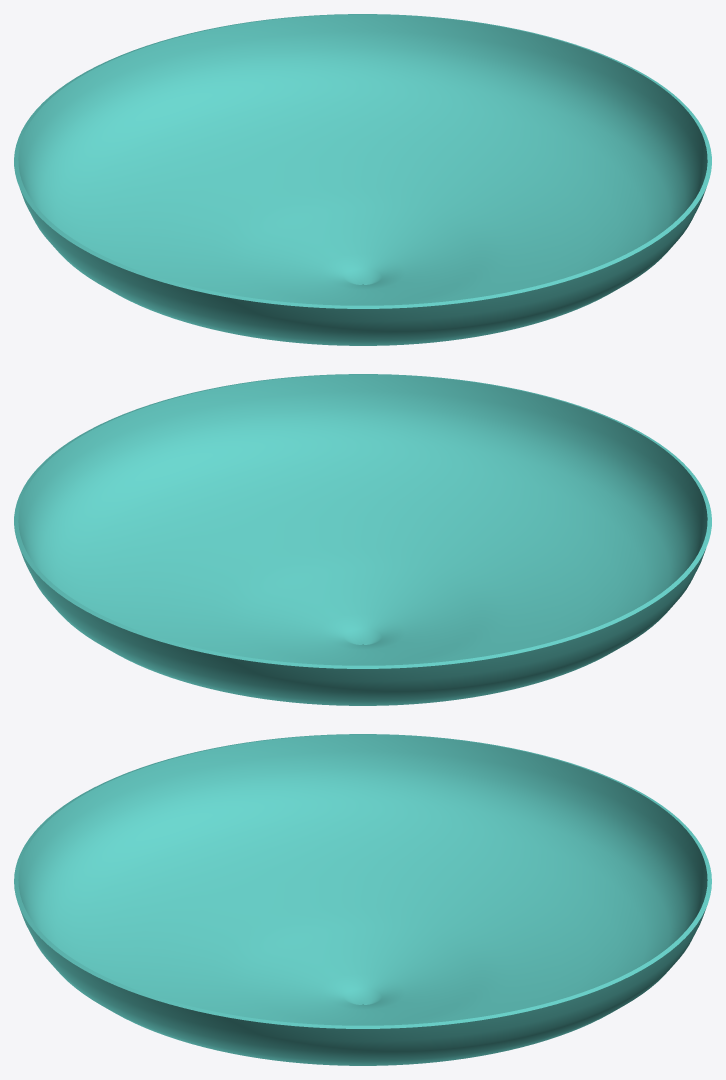
File: Teller1.fbx
3 views of the same model, one above another, from view 1: azimuth 30°, elevation 25°; view 2: azimuth 150°, elevation 25°; view 3: azimuth 270°, elevation 25° (orthographic).
Parts seen in each view (by area): view 1: Circle_Circle.001; view 2: Circle_Circle.001; view 3: Circle_Circle.001.
Part boxes in pixels (x1,y1,x2,y2): Circle_Circle.001: [14, 14, 711, 345]; Circle_Circle.001: [14, 374, 711, 705]; Circle_Circle.001: [14, 734, 711, 1065].
Size of the model in its own units: 149 by 40.28 by 149.
